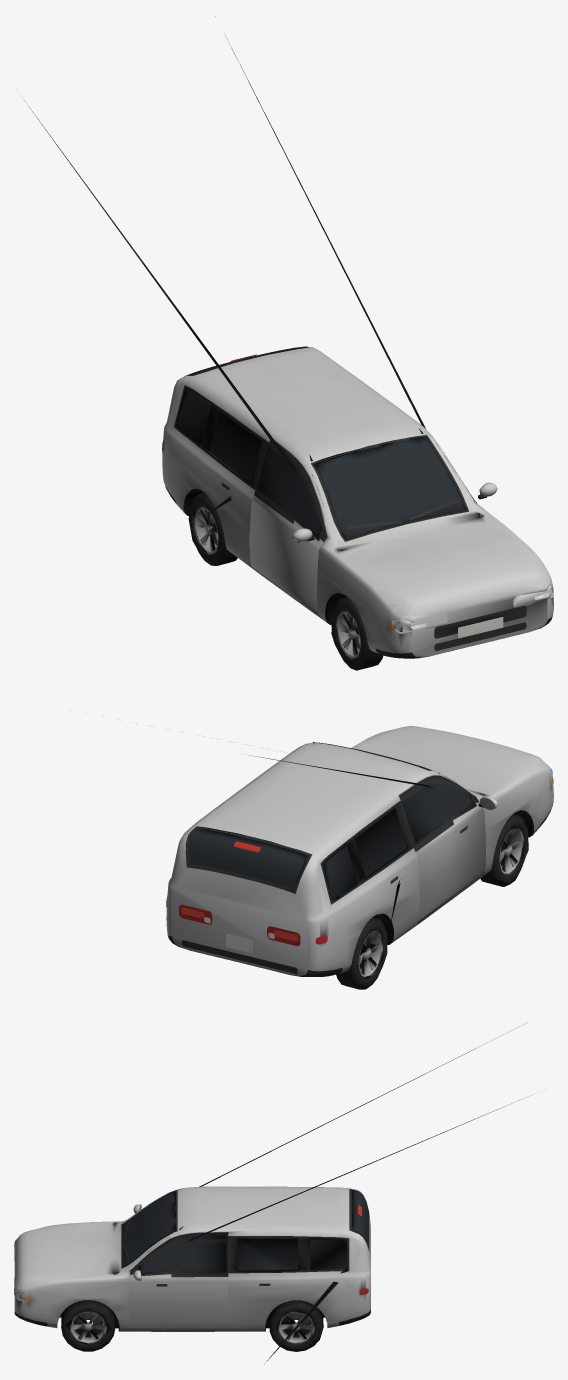
Rendered from car-suv-lo-v2.glb.
The picture shows the model from 3 angles, top to bottom: view 1: azimuth 30°, elevation 25°; view 2: azimuth 150°, elevation 25°; view 3: azimuth 270°, elevation 25°; orthographic projection. The views are drawn at different scales.
Visible parts, largest first — view 1: body, door_R, wheel_FR, wheel_RR; view 2: body, door_R, wheel_RR, wheel_FR; view 3: body, door_L, wheel_FL, wheel_RL.
Boxes of the visible parts, left/top/right/bottom form: body: left=24, top=16, right=553, bottom=658; door_R: left=250, top=440, right=327, bottom=614; wheel_FR: left=331, top=597, right=383, bottom=670; wheel_RR: left=188, top=492, right=237, bottom=565; body: left=166, top=726, right=553, bottom=976; door_R: left=399, top=775, right=497, bottom=922; wheel_RR: left=336, top=917, right=387, bottom=989; wheel_FR: left=480, top=814, right=528, bottom=886; body: left=14, top=1022, right=533, bottom=1364; door_L: left=130, top=1232, right=228, bottom=1329; wheel_FL: left=61, top=1300, right=115, bottom=1351; wheel_RL: left=269, top=1300, right=323, bottom=1351.
Bounding box in the file's own units: 2.59 × 4.13 × 7.34.
